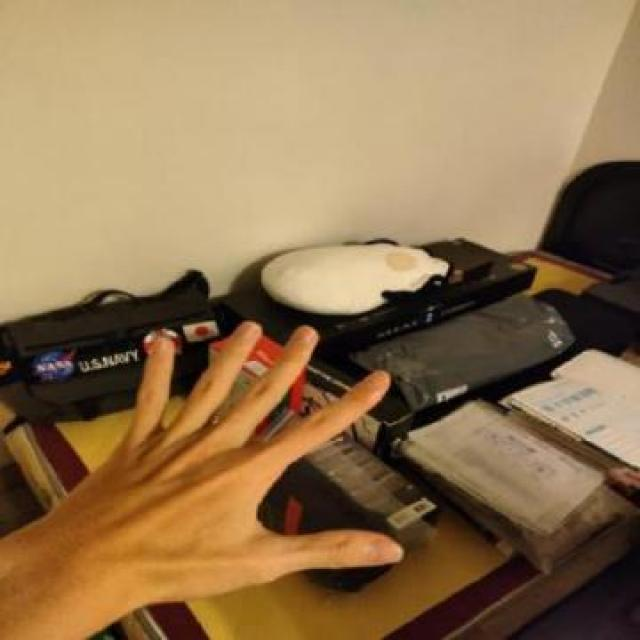hand: (79, 315, 405, 610)
